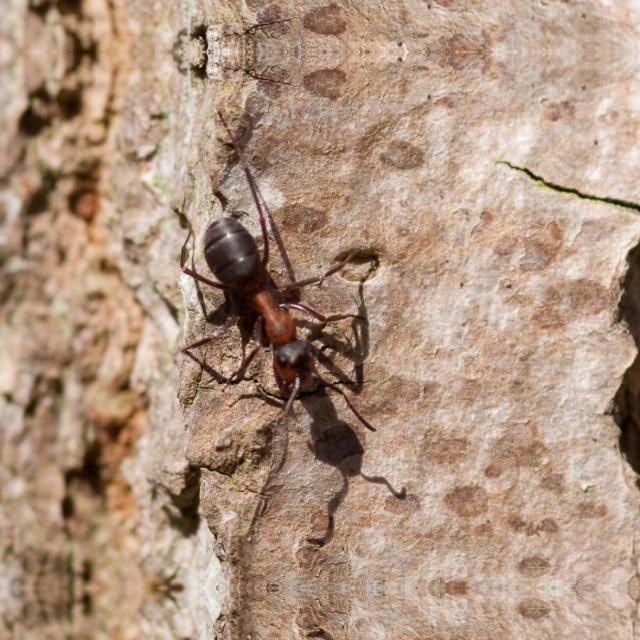Formica: (171, 184, 383, 428)
